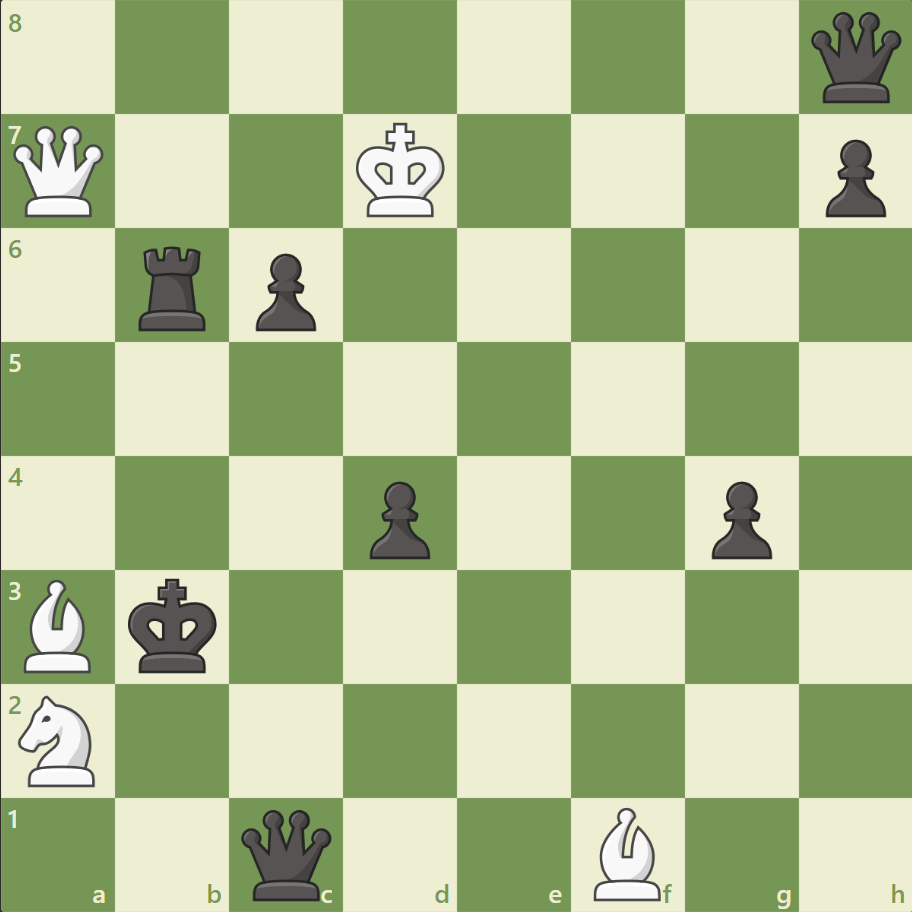B: (585, 801, 669, 904), (17, 574, 101, 676)
K: (351, 117, 451, 225)
N: (11, 688, 108, 791)
Q: (10, 122, 109, 222)
k: (124, 571, 224, 679)
p: (247, 246, 322, 337), (701, 473, 776, 564), (815, 132, 889, 223), (361, 473, 435, 564)
q: (805, 9, 904, 108), (237, 804, 336, 903)
r: (133, 239, 215, 336)
